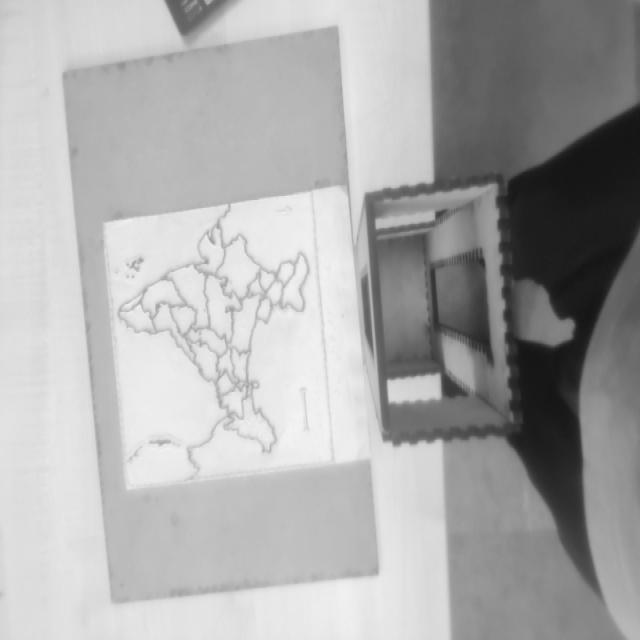map: (102, 191, 334, 488)
